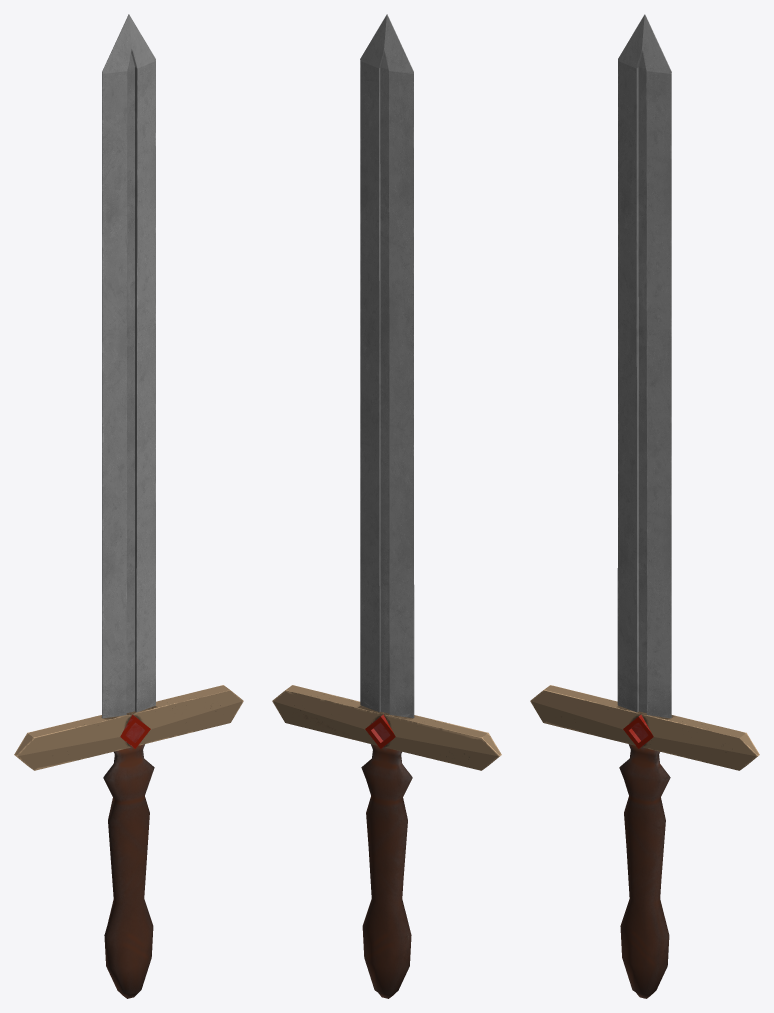
Rendered from uzun kılıc.fbx.
The picture shows the model from 3 angles, left to right: view 1: azimuth 30°, elevation 25°; view 2: azimuth 150°, elevation 25°; view 3: azimuth 330°, elevation 25°; orthographic projection.
Parts seen in each view (by area): view 1: kılıc uzun; view 2: kılıc uzun; view 3: kılıc uzun.
Part boxes in pixels (bbox=[...]): kılıc uzun: bbox=[14, 14, 243, 998]; kılıc uzun: bbox=[272, 14, 501, 998]; kılıc uzun: bbox=[530, 14, 759, 998].
Bounding box in the file's own units: 1477 × 6093 × 152.
Materials: 1 (1 with a texture image).
